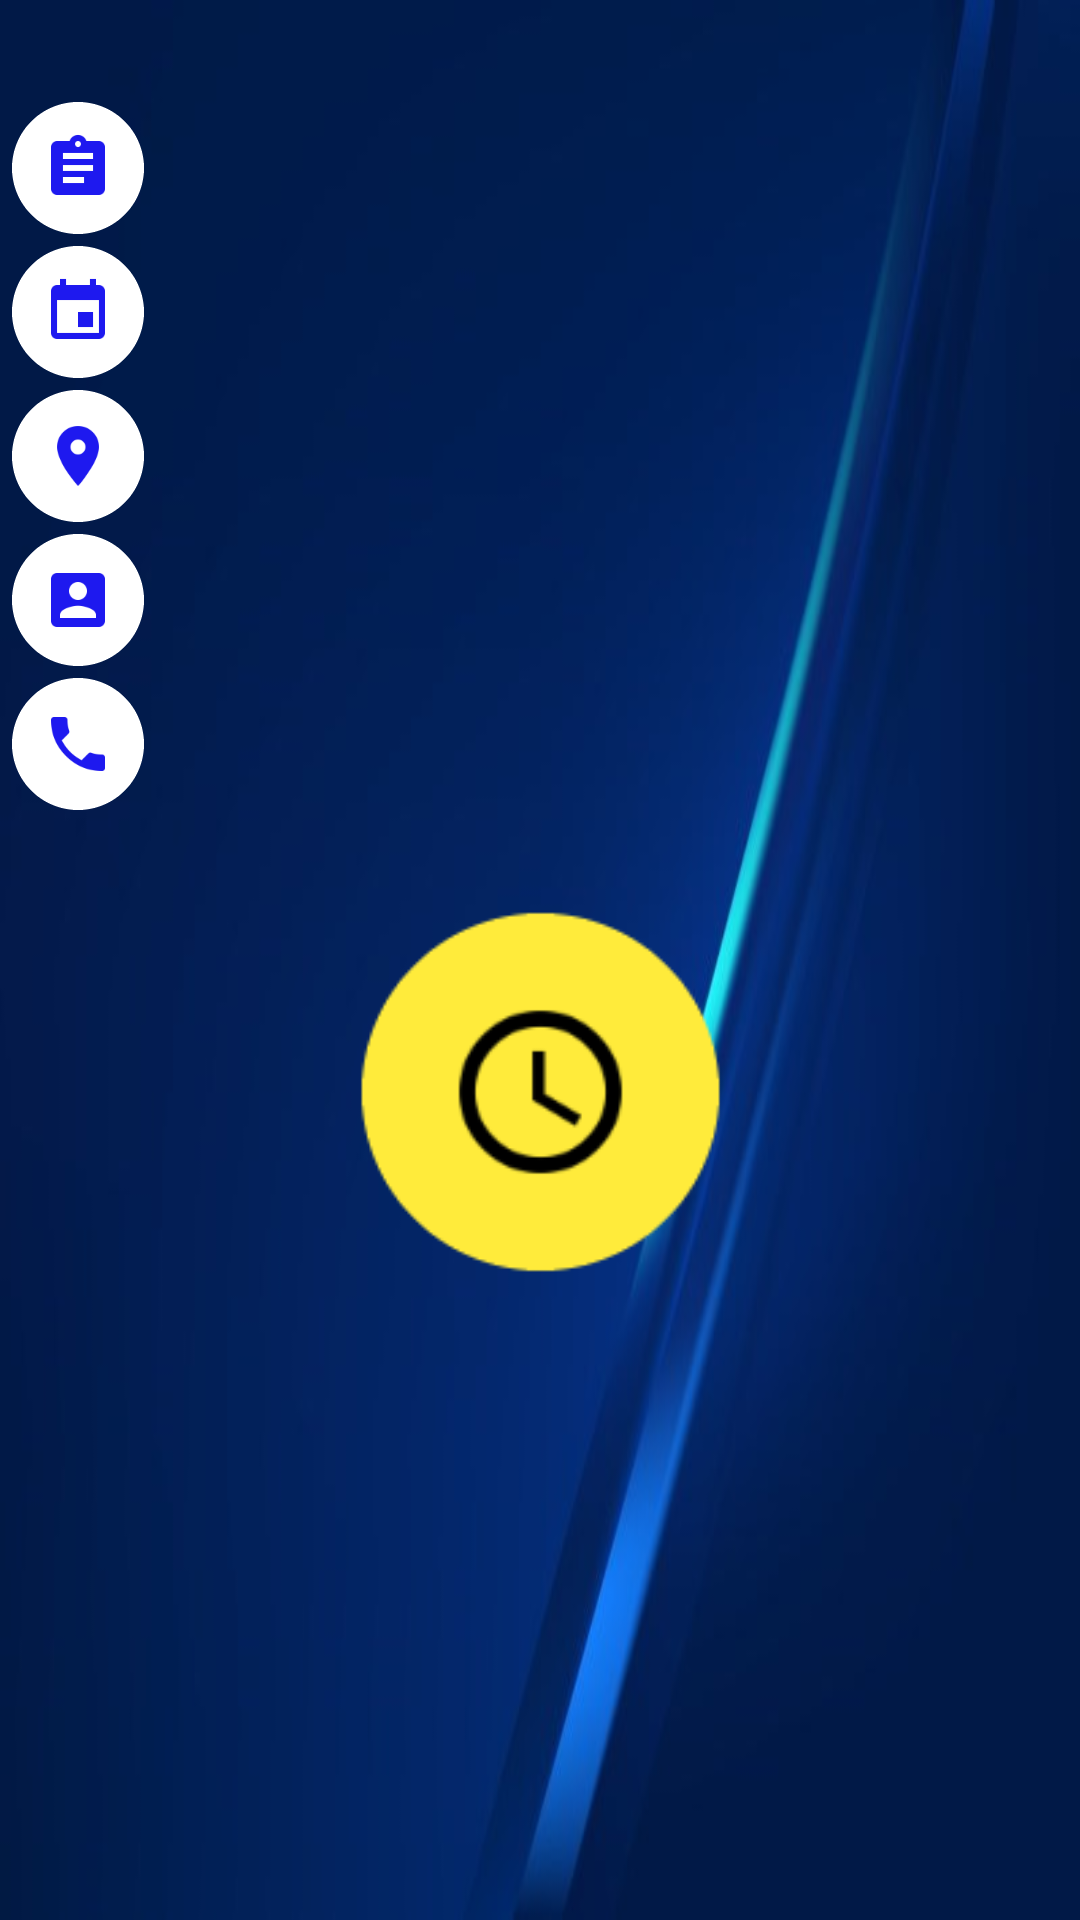

Screen size 1080x1920. Icon name, then its box in pixels as (left=x1, top=y1, right=x2, bottom=y2):
contato: (left=12, top=534, right=144, bottom=666)
local: (left=12, top=390, right=144, bottom=522)
phone: (left=12, top=678, right=144, bottom=810)
projeto: (left=12, top=102, right=144, bottom=234)
